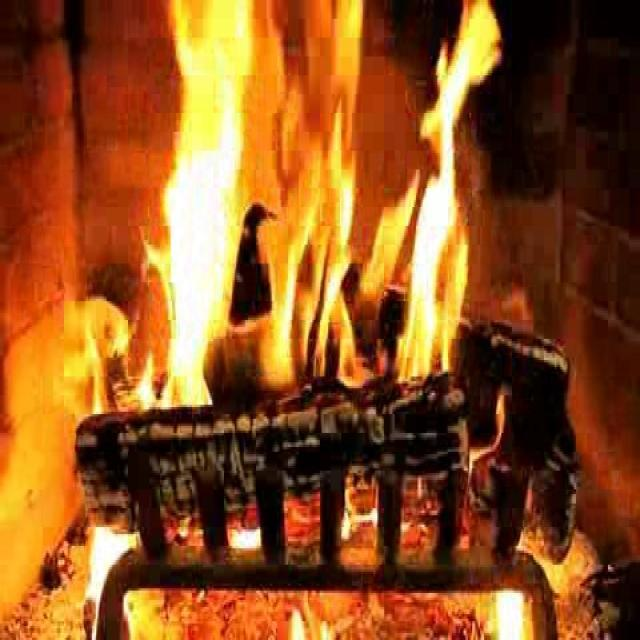Fire: (3, 0, 640, 386)
